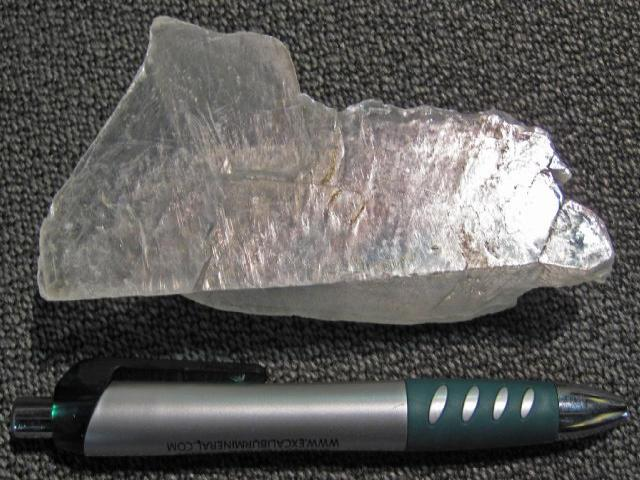PEN: (0, 336, 640, 480)
